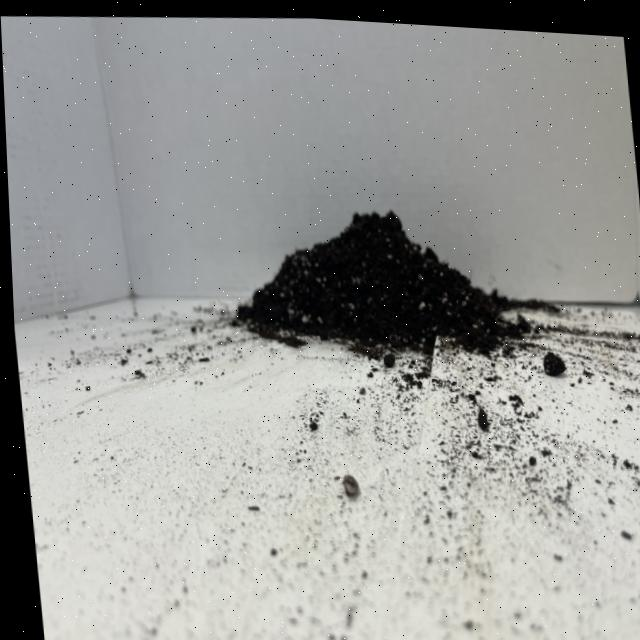soil: (220, 190, 532, 371)
